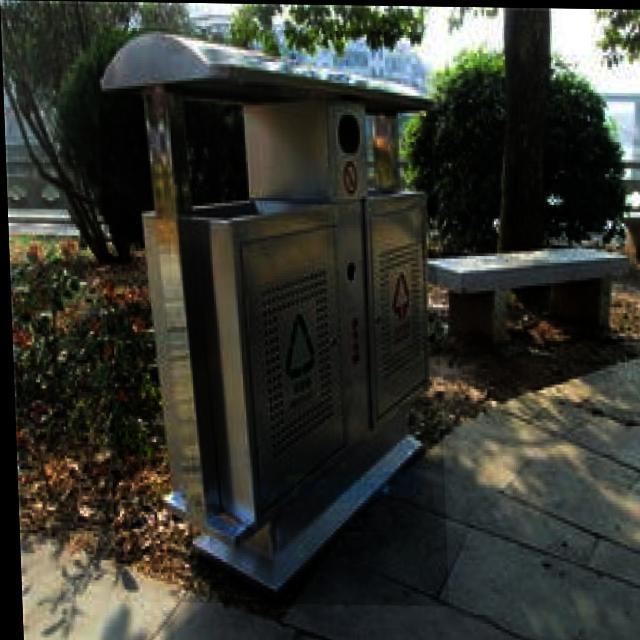garbage_bin: (96, 27, 445, 605)
